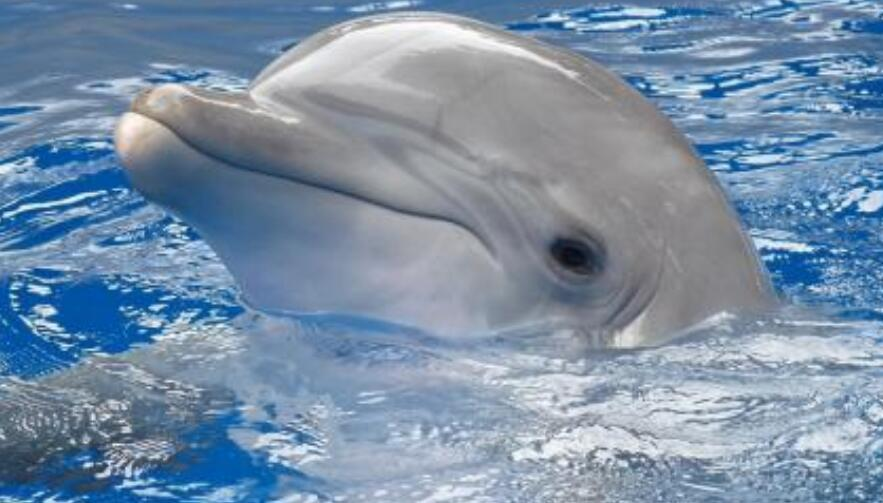fish: (106, 11, 815, 358)
